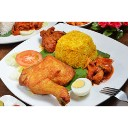briyani: (38, 31, 95, 103)
